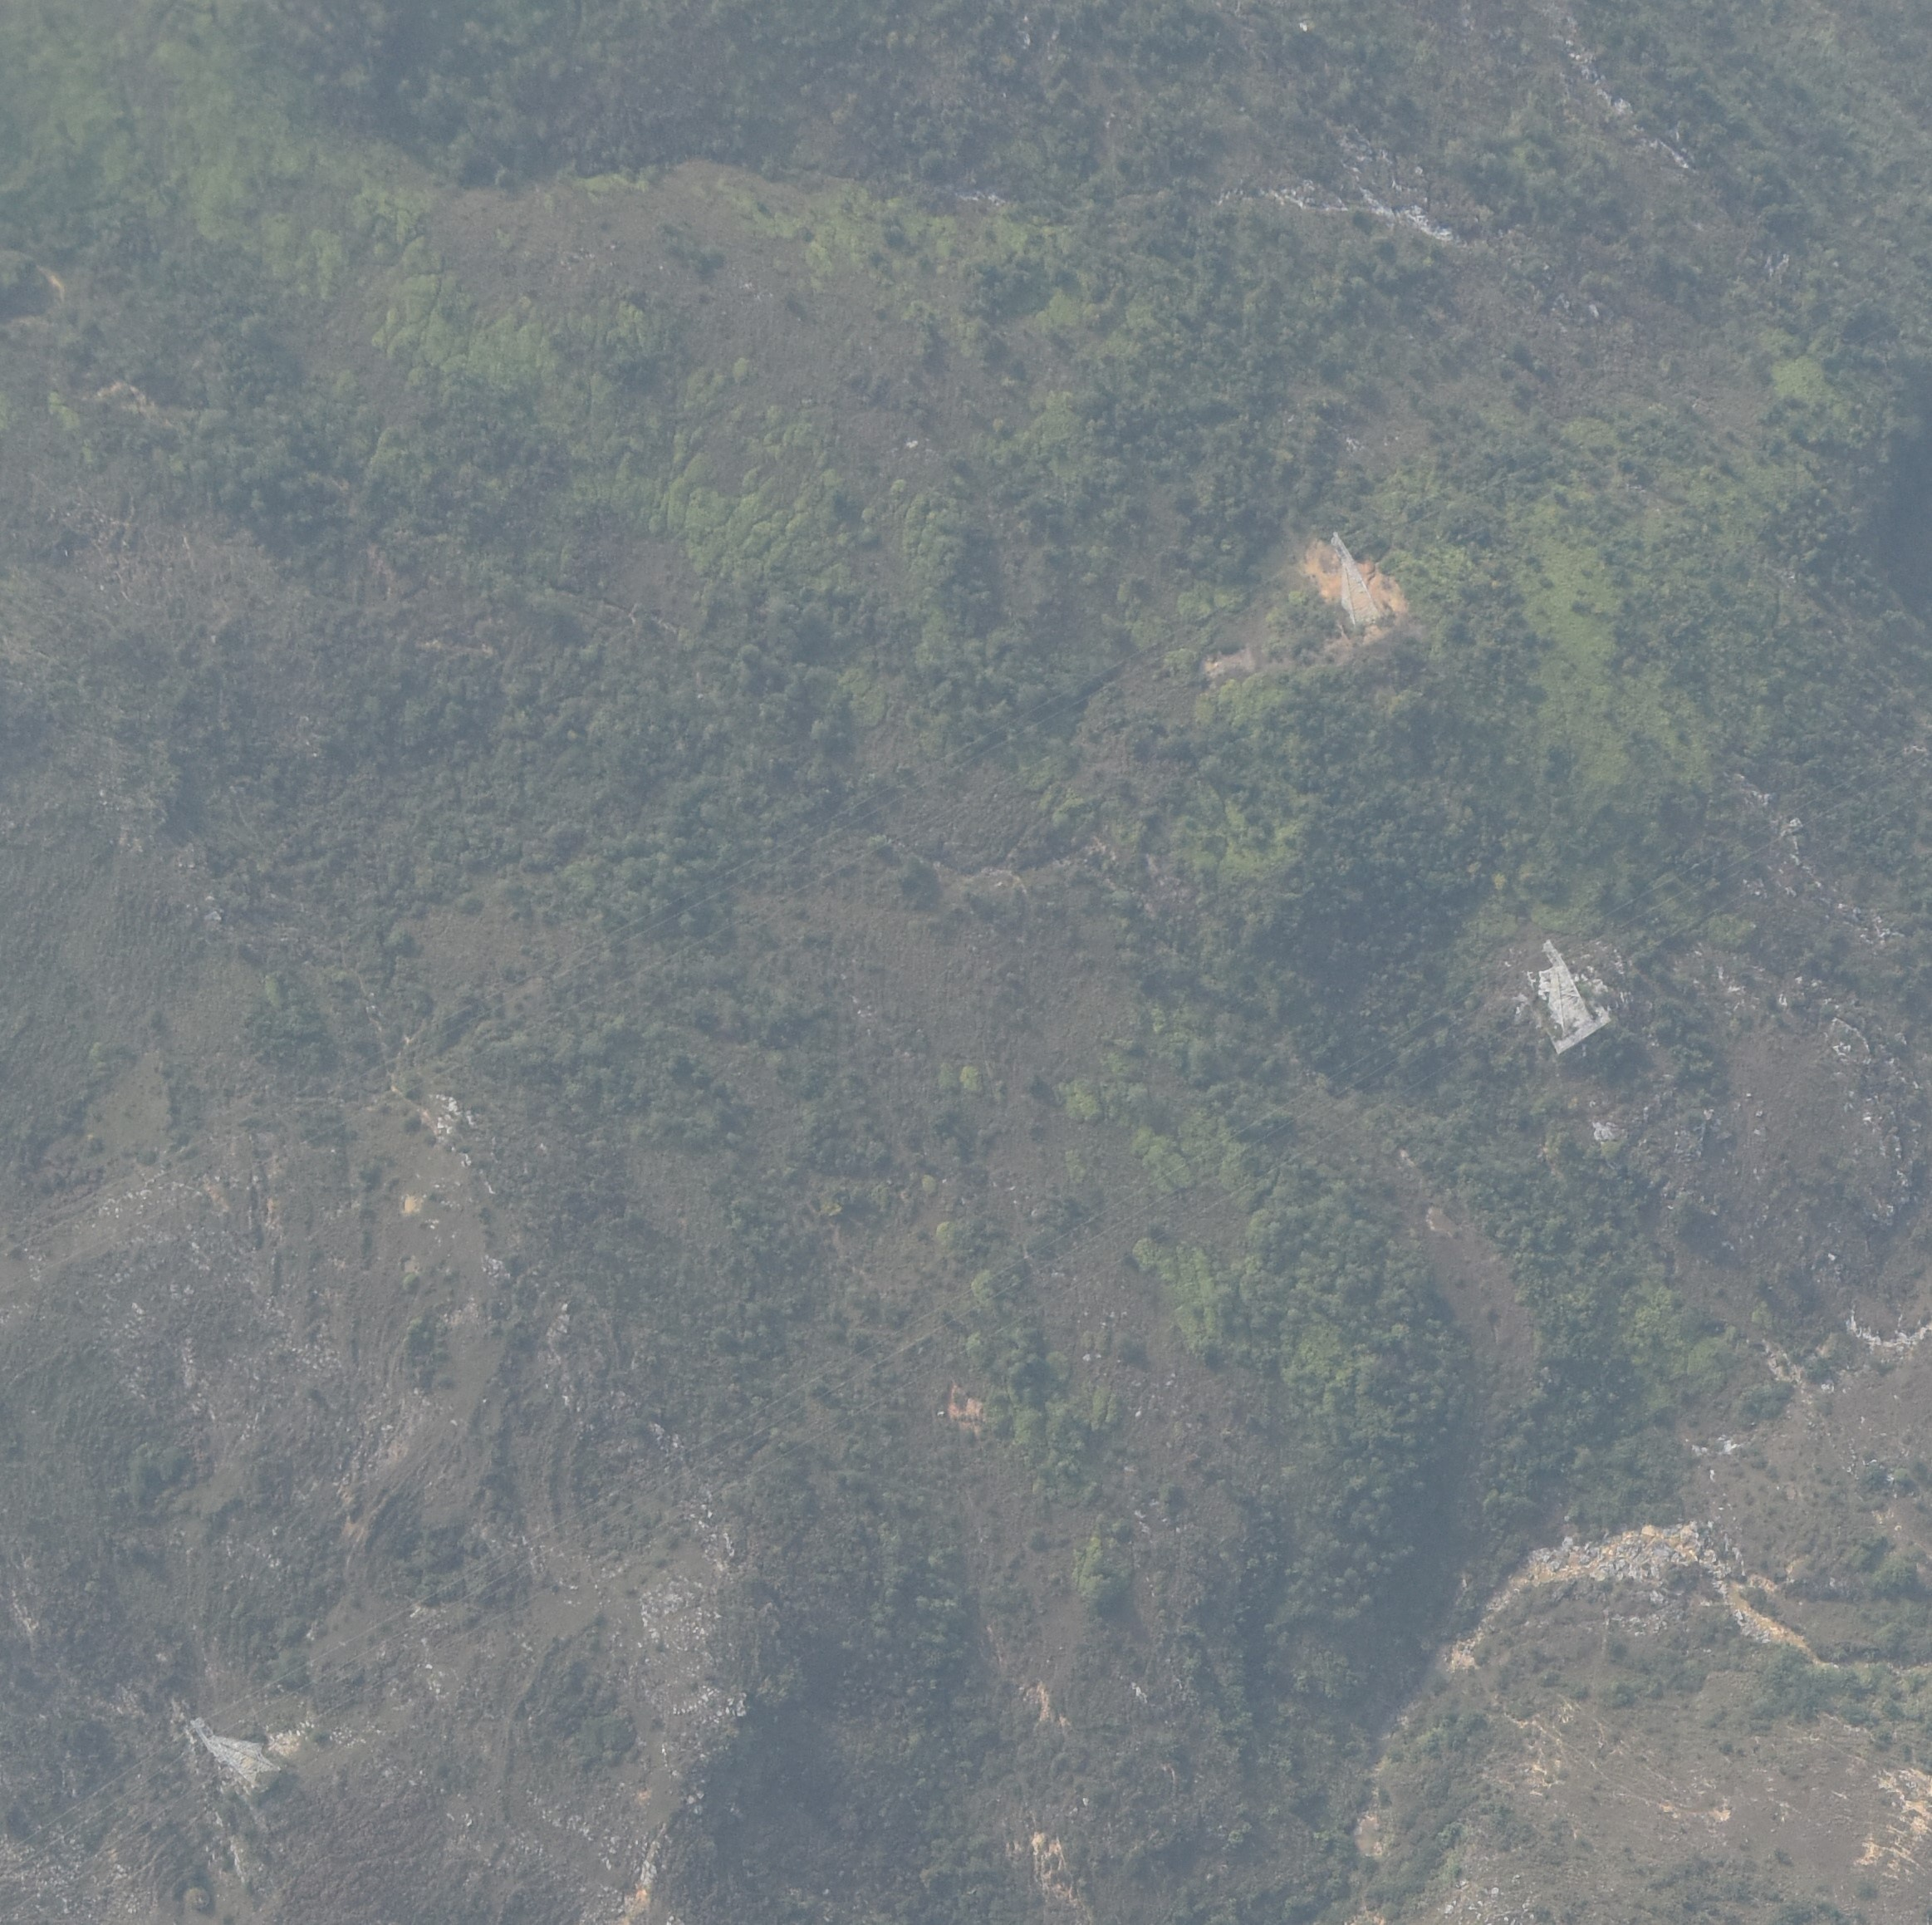cable-tower: (1535, 941, 1611, 1052), (189, 1717, 279, 1787), (1329, 534, 1380, 622)
